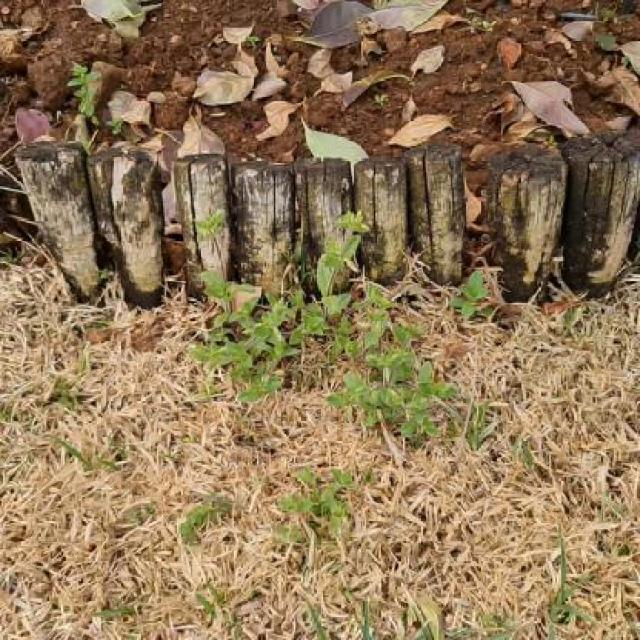weed: (195, 214, 457, 445), (451, 272, 498, 319)
